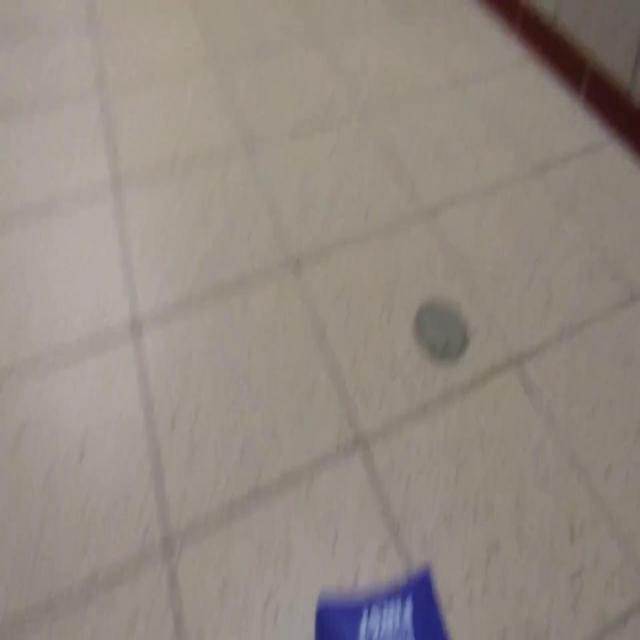frc_cube: (314, 561, 452, 640)
